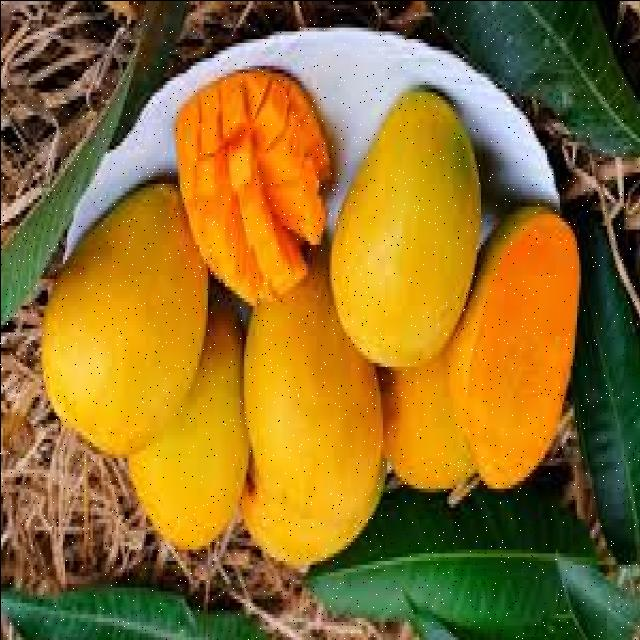mango: (326, 84, 480, 370)
